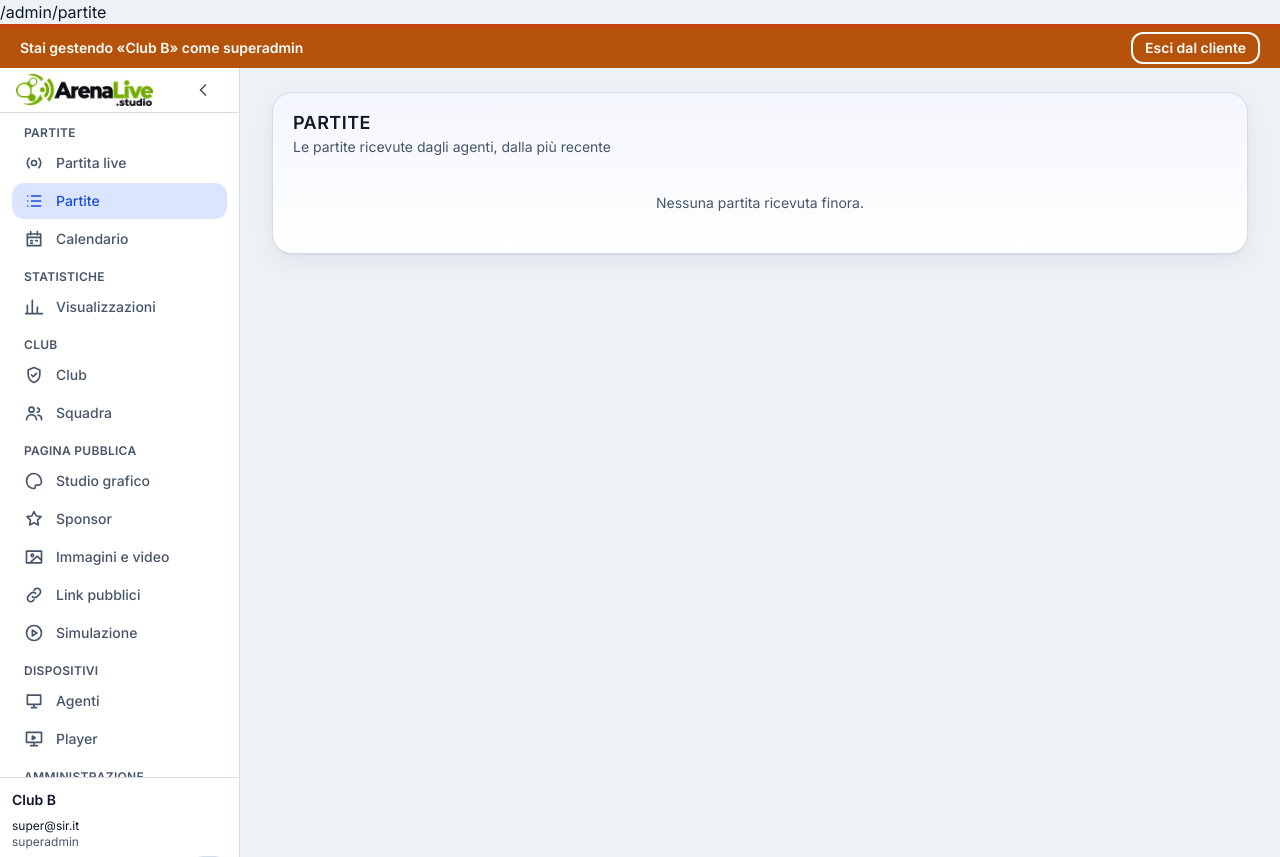
Scenario: «Clienti» page › leaves the client with «Esci dal cliente»: back to «Clienti», without bar nor prefix
Click the button "Esci dal cliente" at (1196,48), box [1131, 32, 1260, 64]
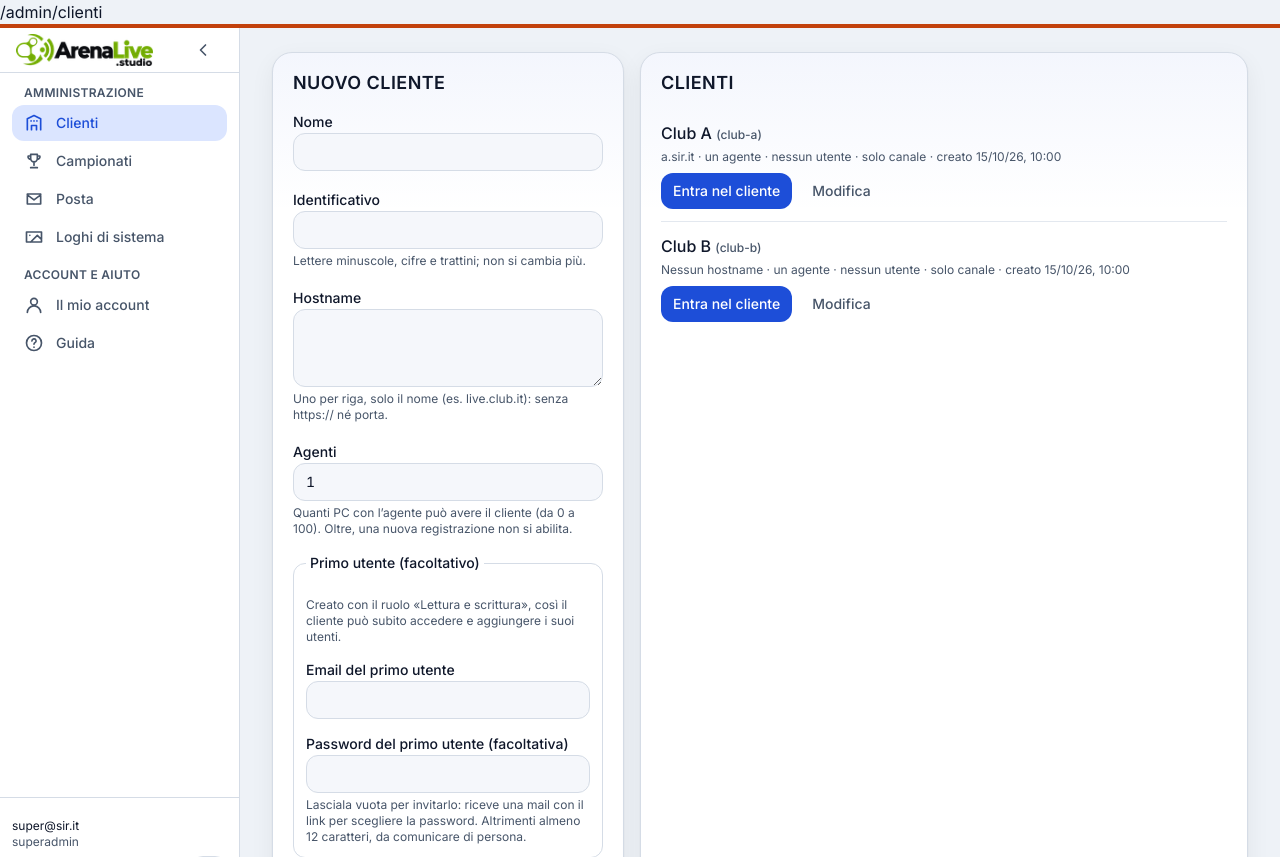
Now the text with test id "where" reads "/admin/clienti", box [0, 2, 102, 22]
Now the element with test id "barra-cliente" is gone
Now the links read "Clienti", "Campionati", "Posta", "Loghi di sistema", "Il mio account", "Guida", in this order, box [12, 105, 227, 141]; [24, 151, 132, 171]; [24, 189, 94, 209]; [24, 227, 164, 247]; [24, 295, 149, 315]; [24, 333, 95, 353]
